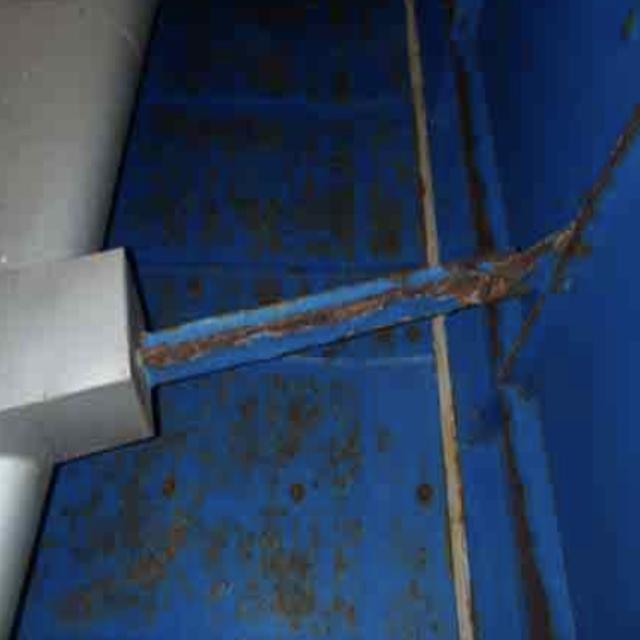corrosion: (158, 215, 572, 408)
